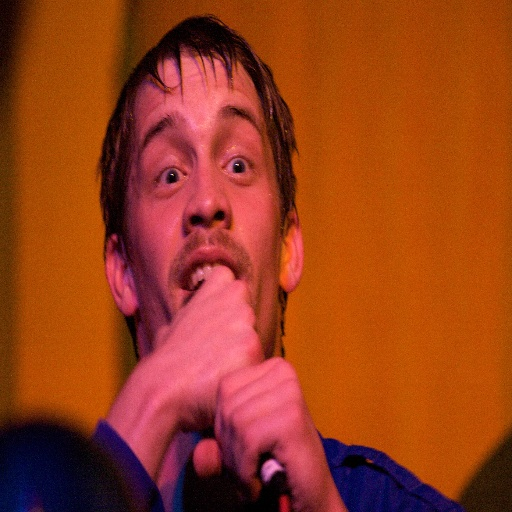hand: (140, 263, 265, 435), (212, 351, 341, 501)
